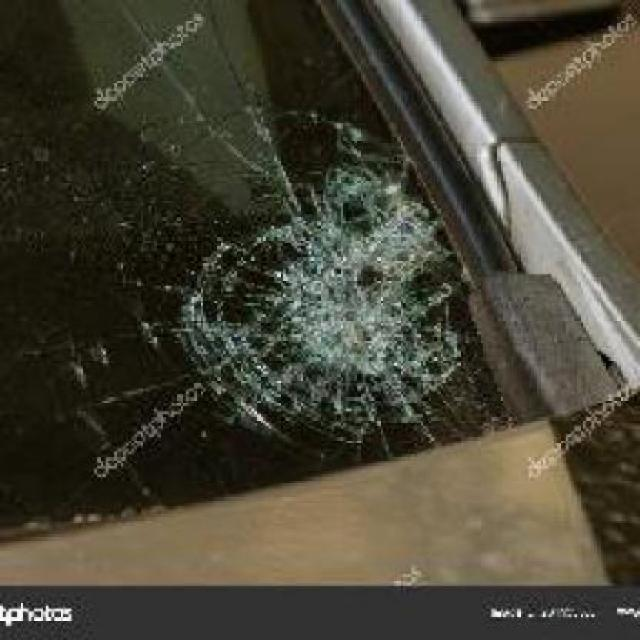damaged-windscreen: (8, 3, 532, 468)
